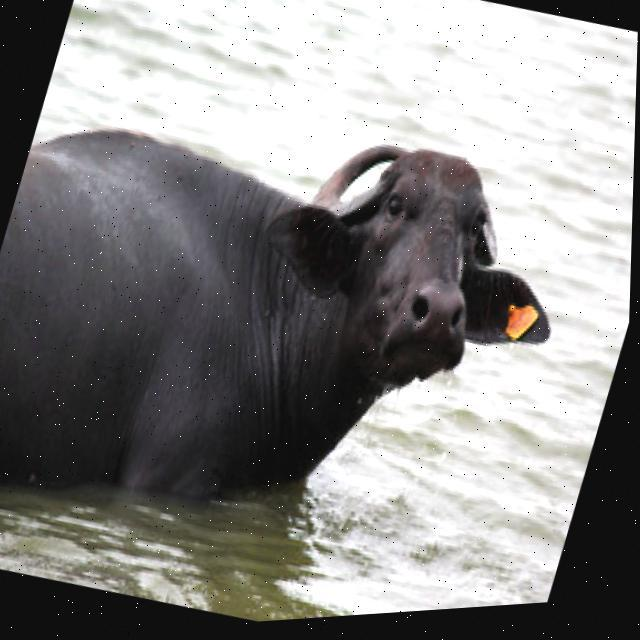Buffalo: (0, 34, 599, 602)
